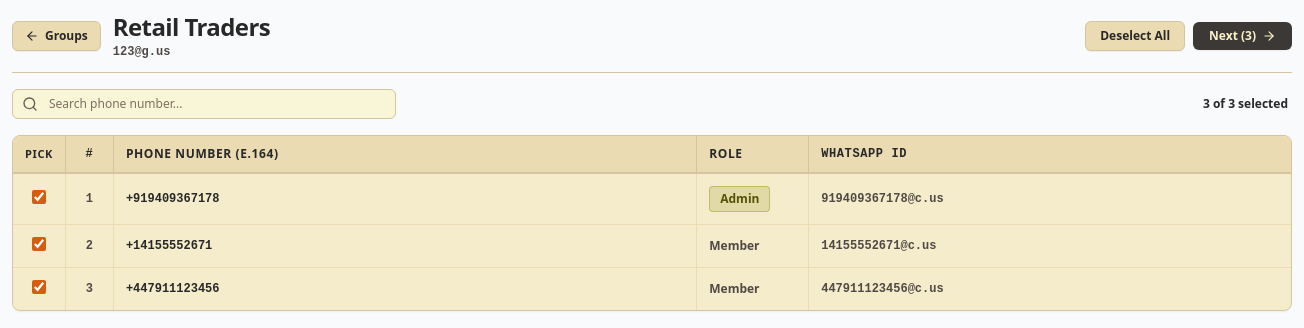
ParticipantSelector component › selects and deselects all participants using Select All toggle
Expected: the text "3 of 3 selected" is shown, [1203,95,1288,112]
Click the button "Deselect All".
click(1135, 36)  # box [1085,21,1185,51]
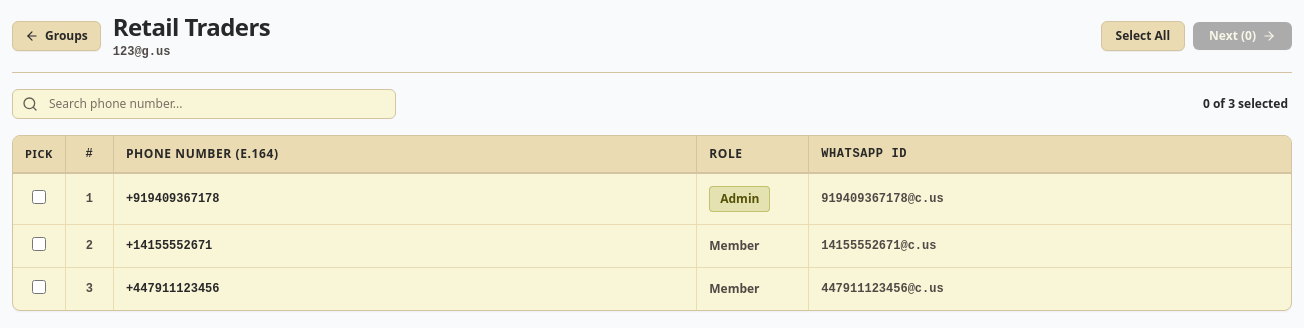
Expected: the text "0 of 3 selected" is shown, [1203,95,1288,112]
Click the button "Select All".
click(1143, 36)  # box [1100,21,1185,51]
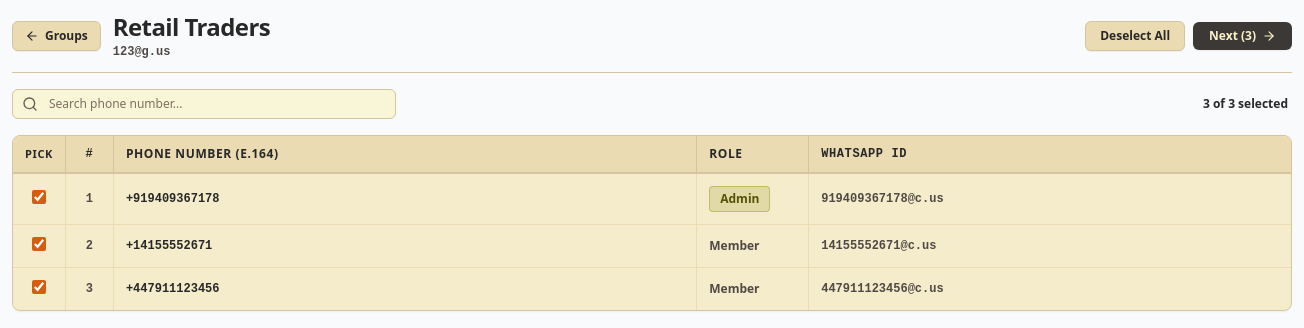
Expected: the text "3 of 3 selected" is shown, [1203,95,1288,112]
